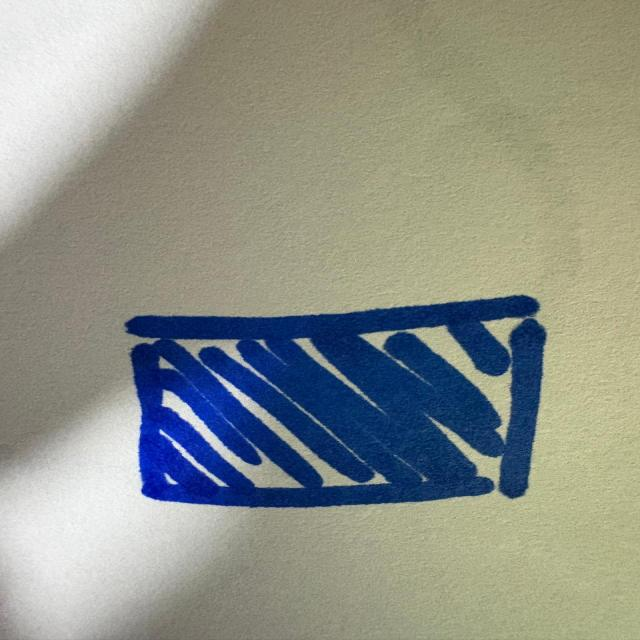Rectangle: (118, 290, 563, 513)
